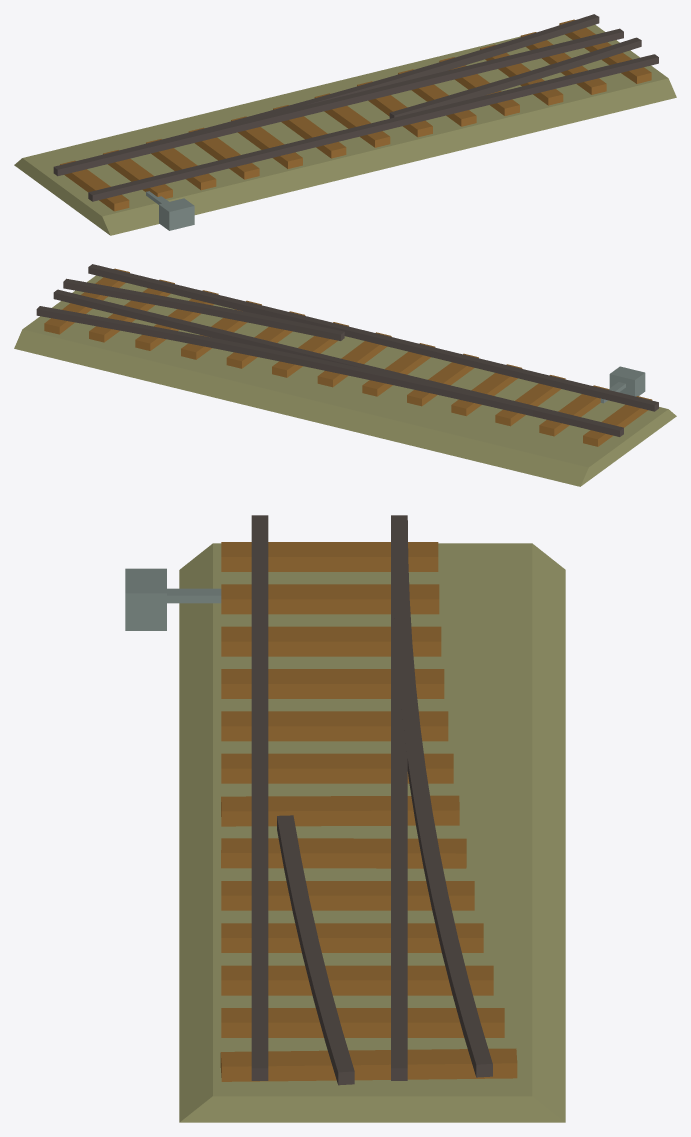
The model's file is SM_Via_DesvioIzq_v1_Madera_LOD1.fbx.
The picture shows the model from 3 angles, top to bottom: view 1: azimuth 30°, elevation 25°; view 2: azimuth 150°, elevation 25°; view 3: azimuth 270°, elevation 25°; orthographic projection. The views are drawn at different scales.
Parts seen in each view (by area): view 1: SM_via_trazado_v26_LOD1; view 2: SM_via_trazado_v26_LOD1; view 3: SM_via_trazado_v26_LOD1.
Part boxes in pixels (<box>): SM_via_trazado_v26_LOD1: <box>14,14,676,235</box>; SM_via_trazado_v26_LOD1: <box>14,264,676,486</box>; SM_via_trazado_v26_LOD1: <box>125,515,565,1122</box>.
Size of the model in its own units: 15.79 by 0.721 by 5.28.
